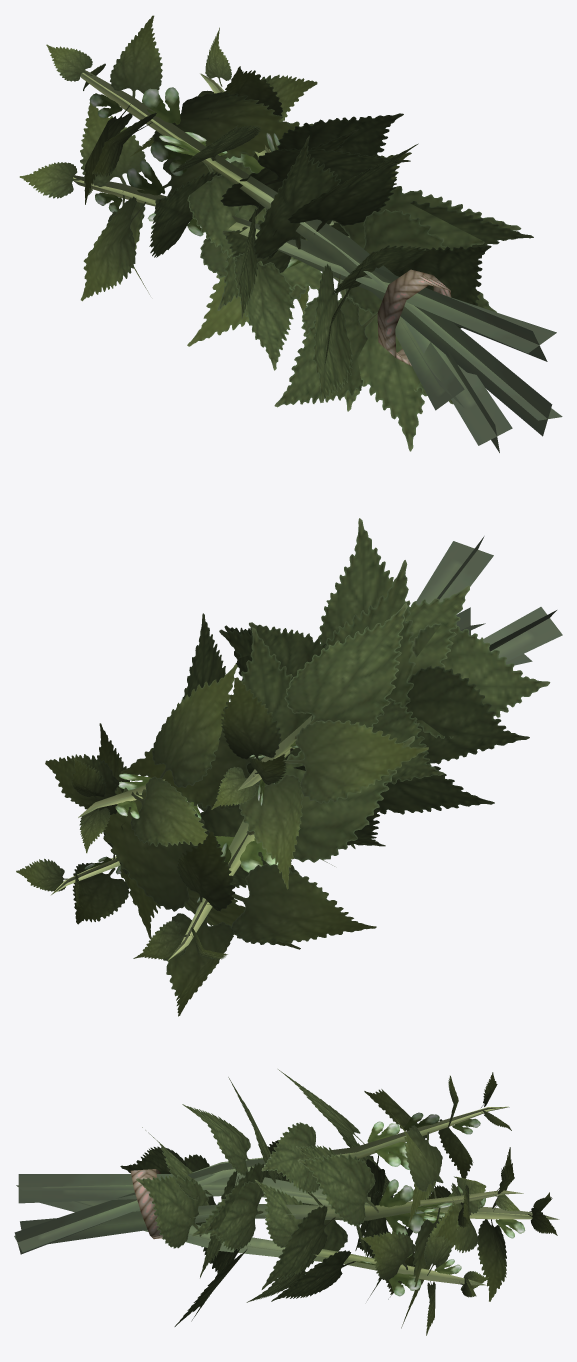
Rendered from village_nettle_01.fbx.
3 views of the same model, one above another, from view 1: azimuth 30°, elevation 25°; view 2: azimuth 150°, elevation 25°; view 3: azimuth 270°, elevation 25° (orthographic). The views are drawn at different scales.
Visible parts, largest first — view 1: village_nettle_01; view 2: village_nettle_01; view 3: village_nettle_01.
Boxes of the visible parts, bbox=[...] form: village_nettle_01: bbox=[19, 15, 562, 452]; village_nettle_01: bbox=[16, 518, 562, 1016]; village_nettle_01: bbox=[14, 1069, 559, 1335].
Bounding box in the file's own units: 26.37 × 26.51 × 52.33.
